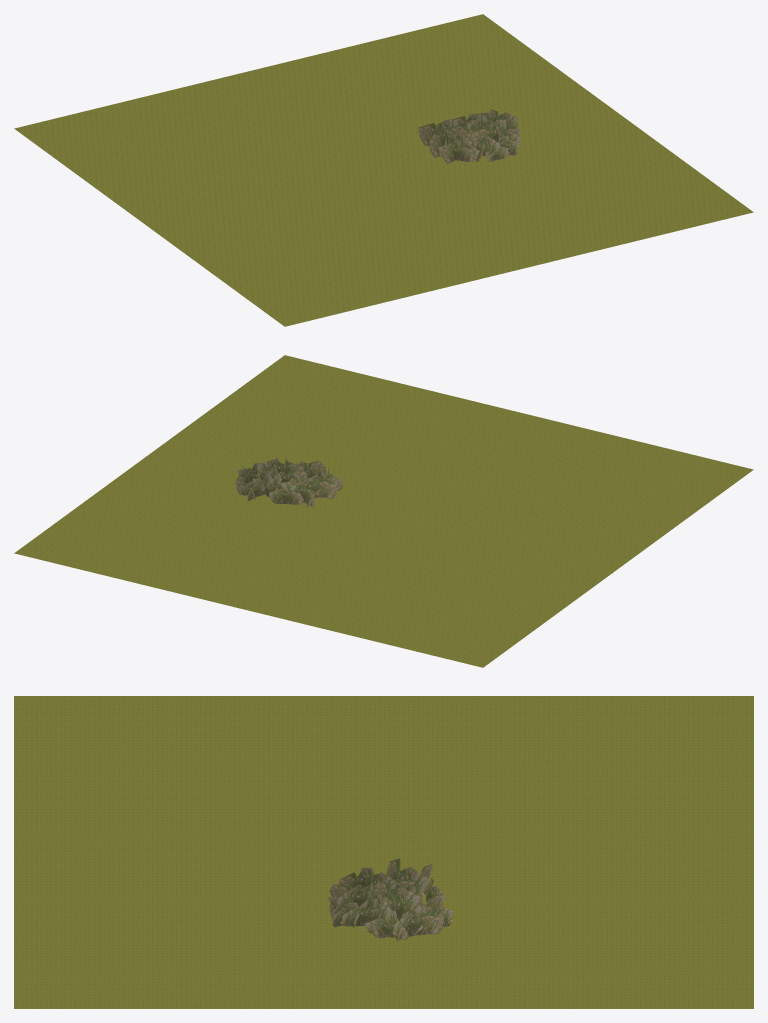
The model's file is grass.gltf.
3 views of the same model, one above another, from view 1: azimuth 30°, elevation 25°; view 2: azimuth 150°, elevation 25°; view 3: azimuth 270°, elevation 25° (orthographic). The views are drawn at different scales.
Parts seen in each view (by area): view 1: _Grass Generic Medium Sparse.002, Grass Generic Small; view 2: _Grass Generic Medium Sparse.002, Grass Generic Small; view 3: _Grass Generic Medium Sparse.002, Grass Generic Small.
Part boxes in pixels (bbox=[...]): _Grass Generic Medium Sparse.002: bbox=[14, 14, 753, 326]; Grass Generic Small: bbox=[418, 109, 521, 163]; _Grass Generic Medium Sparse.002: bbox=[14, 355, 753, 667]; Grass Generic Small: bbox=[235, 457, 342, 507]; _Grass Generic Medium Sparse.002: bbox=[14, 696, 753, 1008]; Grass Generic Small: bbox=[327, 858, 453, 941].
Bounding box in the file's own units: 10 × 0.5164 × 10.
Materials: 2 (2 with a texture image).
